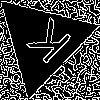K: (18, 16, 74, 72)
